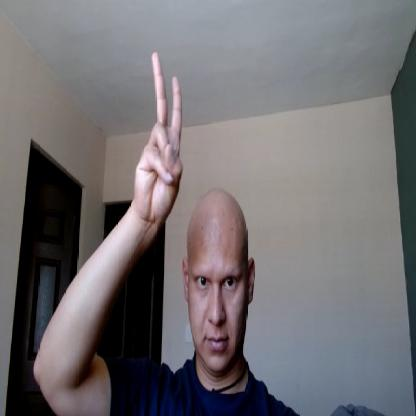V: (134, 51, 186, 220)
